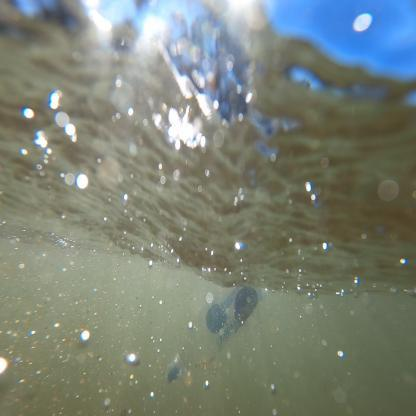Rác: (165, 260, 278, 398)
